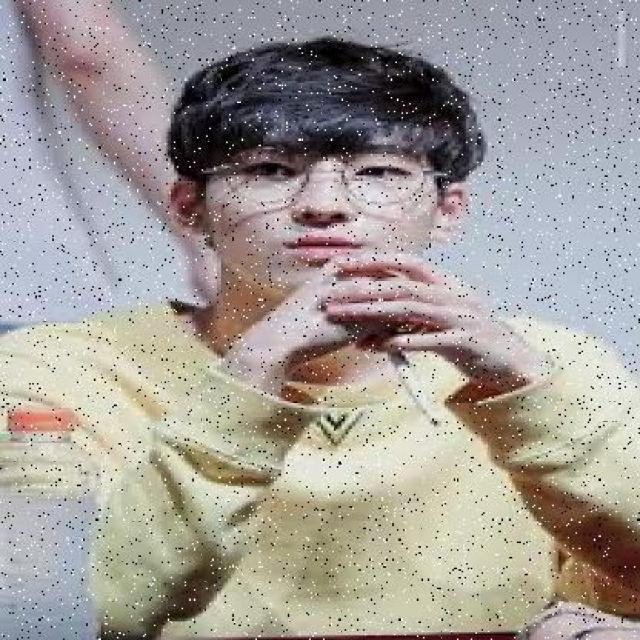mask: (213, 134, 452, 216)
